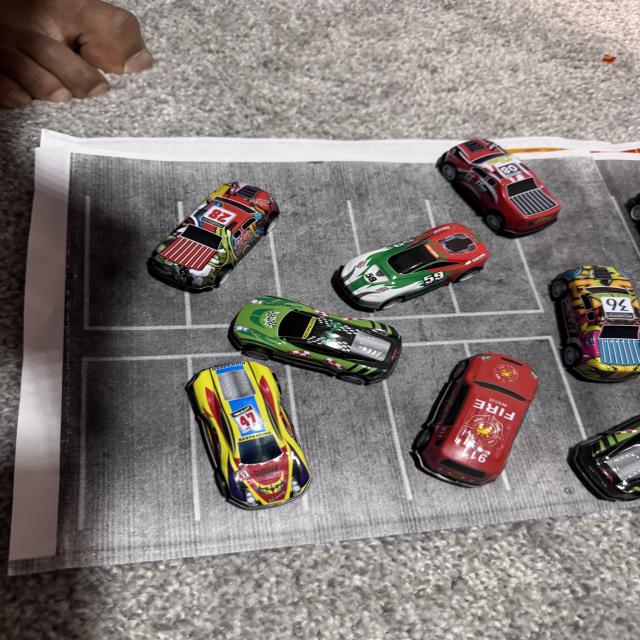car: (164, 349, 350, 520), (372, 110, 595, 236), (420, 348, 538, 507), (222, 286, 405, 386), (166, 154, 269, 294), (341, 217, 475, 315), (551, 404, 640, 530), (551, 261, 640, 378)
